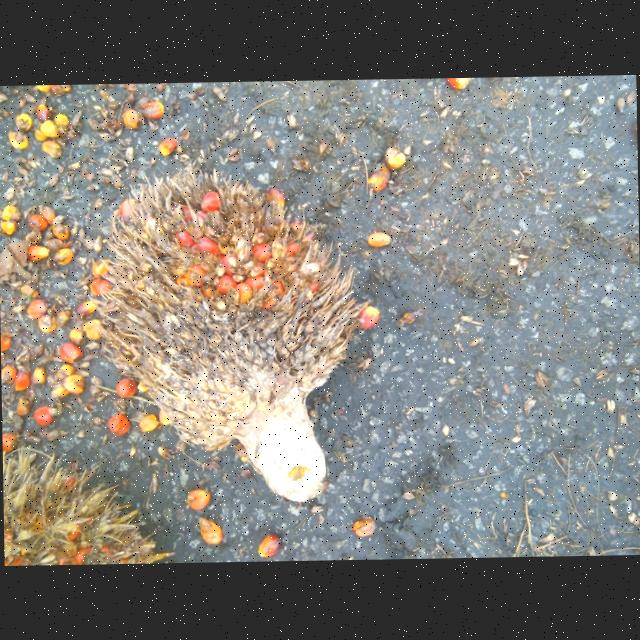Overripe: (91, 166, 365, 468)
